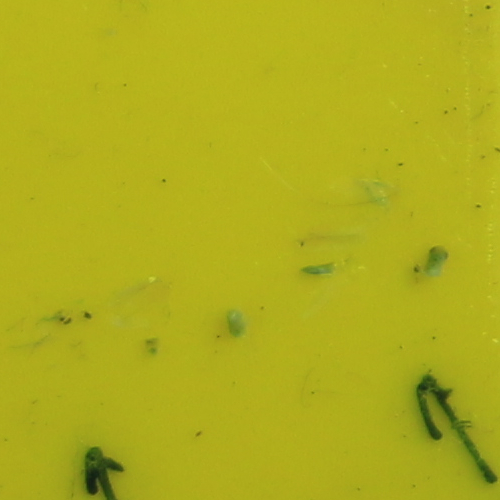cicada: (422, 243, 453, 277)
